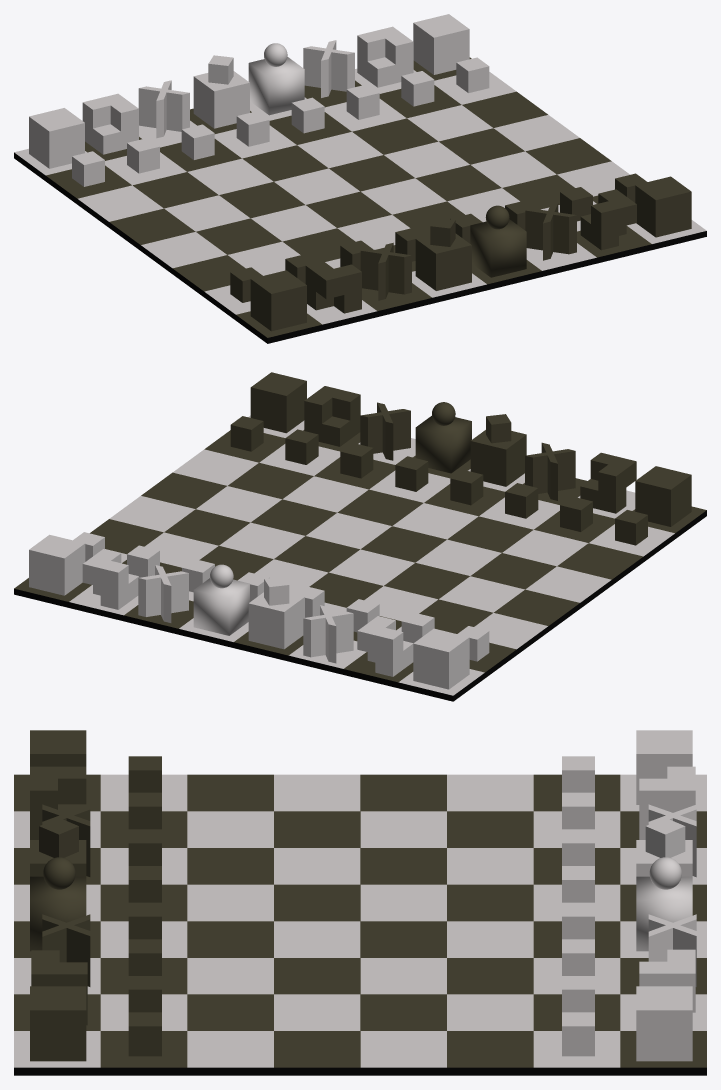
The model's file is hartwigSet.glb.
3 renders of one model, top to bottom at view 1: azimuth 30°, elevation 25°; view 2: azimuth 150°, elevation 25°; view 3: azimuth 270°, elevation 25°, orthographic. The views are drawn at different scales.
Visible parts, largest first — view 1: Board, King B, King W, Queen B, Queen W, Rook B1, Rook B2, Knight W1, Rook W1, Knight W2, Rook W2, Knight B1 (+69 smaller); view 2: Board, King W, Queen W, King B, Queen B, Rook W2, Rook W1, Rook B1, Knight B2, Rook B2, Knight B1, Knight W2 (+66 smaller); view 3: Board, Rook W1, Rook B2, Queen W, Queen B, h4, e3, h6, e5, h3, e6, e4 (+85 smaller).
Boxes of the visible parts, <box> form: Board: <box>14,152,706,343</box>; King B: <box>415,218,471,290</box>; King W: <box>193,55,249,128</box>; Queen B: <box>470,205,526,277</box>; Queen W: <box>248,43,304,115</box>; Rook B1: <box>250,270,306,331</box>; Rook B2: <box>635,176,691,237</box>; Knight W1: <box>357,26,413,87</box>; Rook W1: <box>413,14,469,74</box>; Knight W2: <box>82,93,138,154</box>; Rook W2: <box>29,108,84,168</box>; Knight B1: <box>305,261,361,313</box>; Board: <box>14,510,706,701</box>; King W: <box>248,576,304,649</box>; Queen W: <box>193,564,249,635</box>; King B: <box>470,414,526,486</box>; Queen B: <box>415,402,471,473</box>; Rook W2: <box>413,628,469,689</box>; Rook W1: <box>29,534,85,595</box>; Rook B1: <box>635,466,691,526</box>; Knight B2: <box>304,386,360,446</box>; Rook B2: <box>250,372,306,433</box>; Knight B1: <box>580,452,636,513</box>; Knight W2: <box>357,616,413,676</box>; Board: <box>14,1067,706,1075</box>; Rook W1: <box>636,986,692,1061</box>; Rook B2: <box>30,986,86,1061</box>; Queen W: <box>636,857,692,951</box>; Queen B: <box>30,857,86,951</box>; h4: <box>360,774,446,811</box>; e3: <box>447,884,533,921</box>; h6: <box>187,774,273,811</box>; e5: <box>274,884,360,921</box>; h3: <box>447,774,533,811</box>; e6: <box>187,884,273,921</box>; e4: <box>360,884,446,921</box>.
Size of the model in its own units: 8 by 1.13 by 8.
